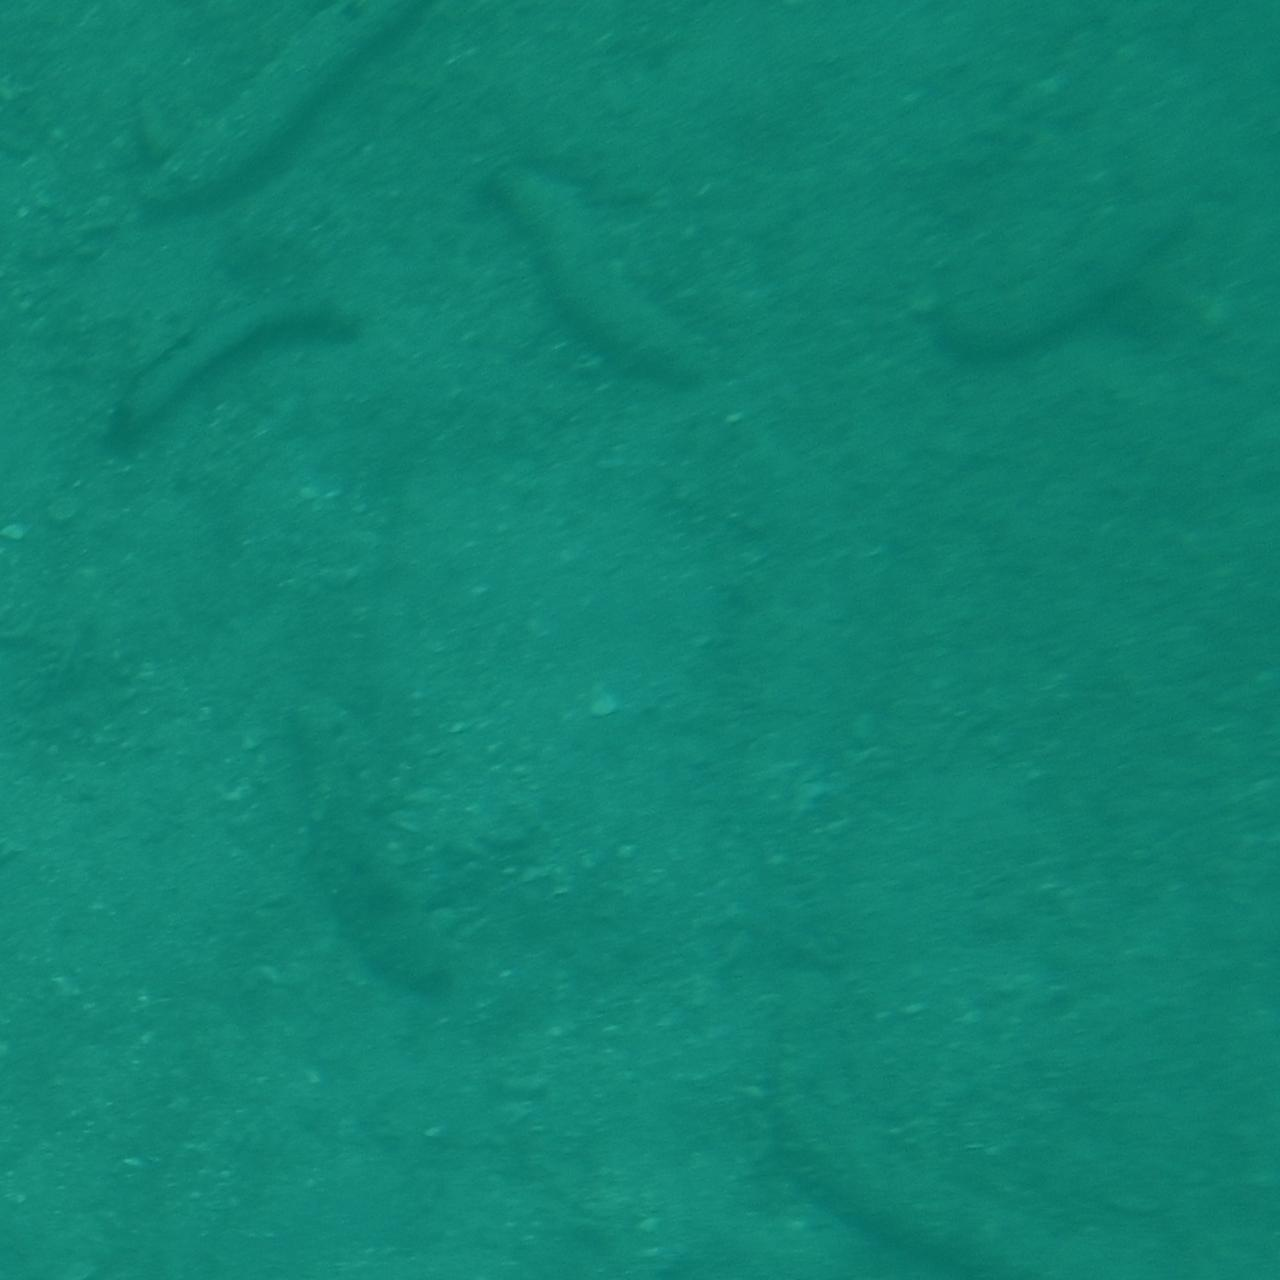Holothuria tubulosa: (751, 1060, 1115, 1280), (244, 670, 489, 994), (924, 70, 1169, 368), (125, 0, 436, 226), (491, 170, 703, 418), (102, 293, 366, 459)
